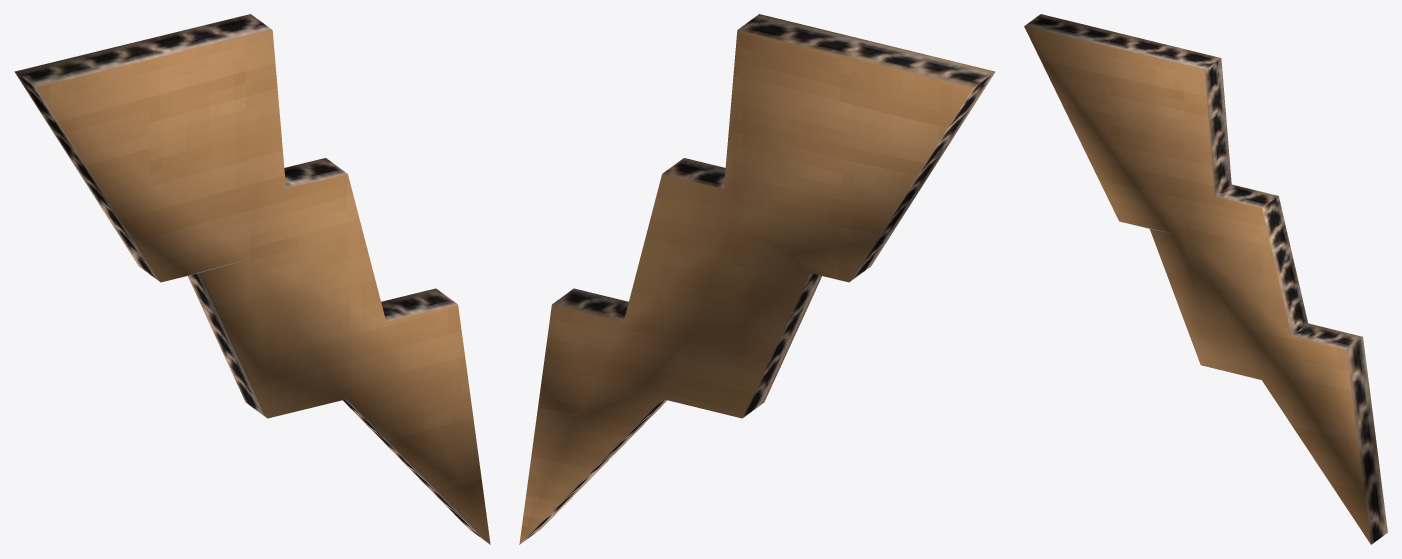
The model's file is boostModel.fbx.
3 renders of one model, left to right at view 1: azimuth 30°, elevation 25°; view 2: azimuth 150°, elevation 25°; view 3: azimuth 330°, elevation 25°, orthographic. The views are drawn at different scales.
Visible parts, largest first — view 1: Cube; view 2: Cube; view 3: Cube.
Part boxes in pixels (x1,y1,x2,y2): Cube: [14, 14, 490, 544]; Cube: [519, 14, 995, 544]; Cube: [1024, 14, 1387, 544].
Size of the model in its own units: 1.71 by 2.04 by 0.1436.
Materials: 3 (2 with a texture image).
